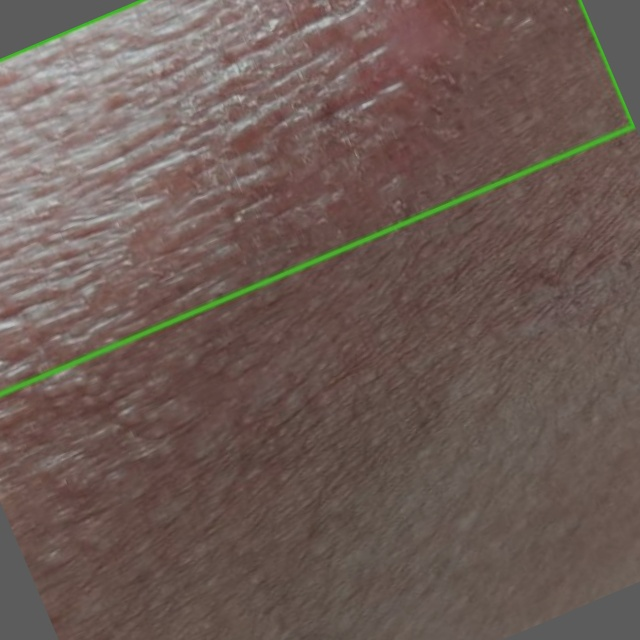Seborrheic Dermatitis: (0, 0, 633, 394)
